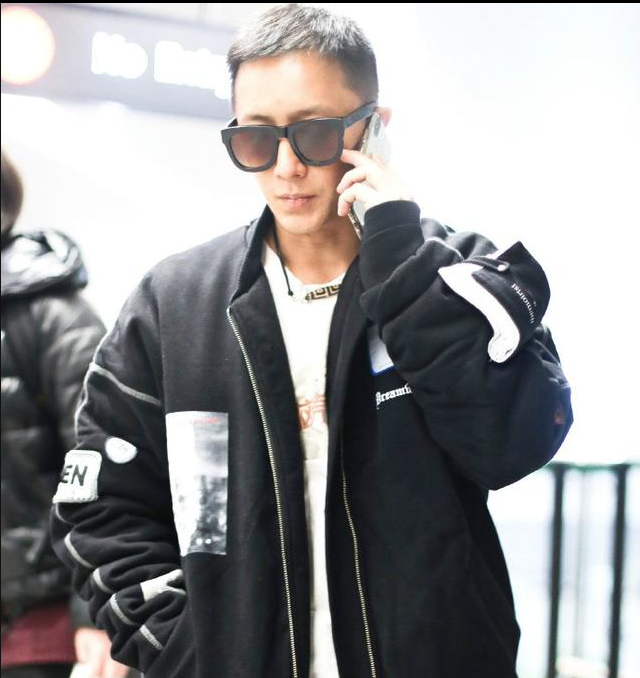calling: (333, 109, 408, 218)
